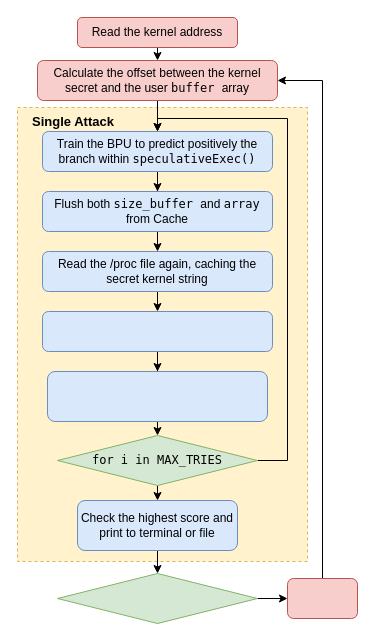
This 375x641 diagram has some shape labels left out. The centre of each missing label's shape, as x and y in pixels:
for c in MAX_CHARS: [157,598]
Increment Offset: [322,598]
Reload array from Cache and update the scores for each byte possibility: [157,396]
Run speculativeExec() using the offset to the kernel region in memory: [157,331]
